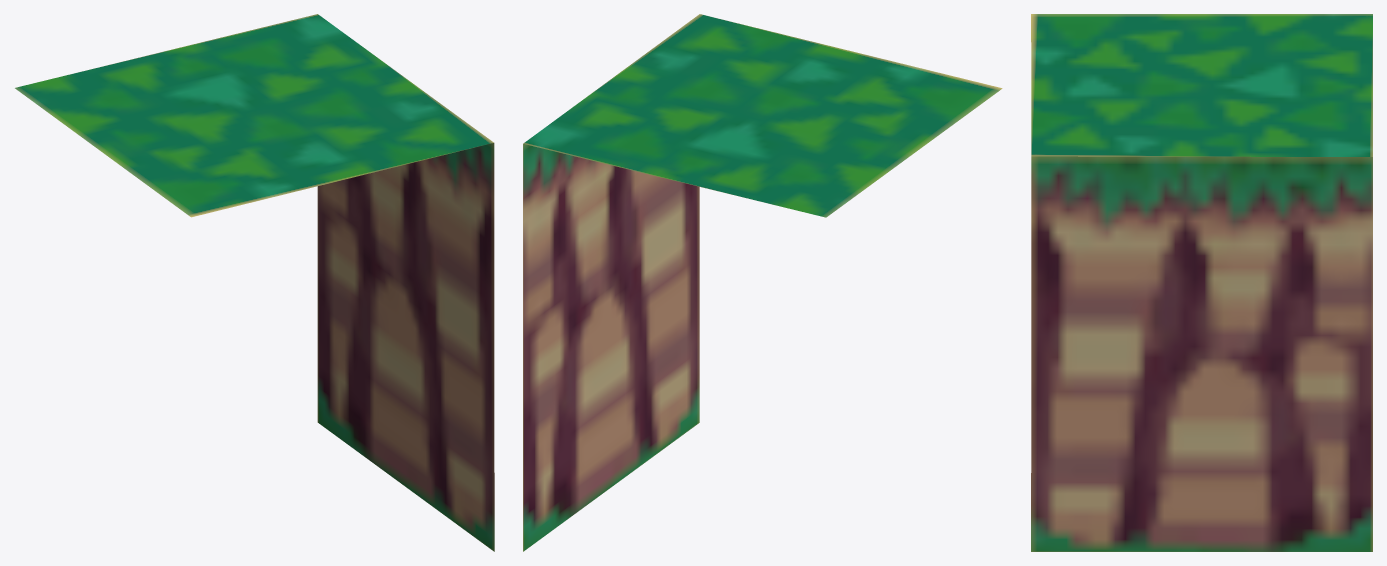
The model's file is RoundedGrassBorder_1Walls.fbx.
3 views of the same model, side by side, from view 1: azimuth 30°, elevation 25°; view 2: azimuth 150°, elevation 25°; view 3: azimuth 270°, elevation 25° (orthographic). The views are drawn at different scales.
Parts seen in each view (by area): view 1: Cube; view 2: Cube; view 3: Cube.
Boxes of the visible parts, x1,y1,x2,y2 form: Cube: [15, 14, 494, 551]; Cube: [523, 14, 1002, 551]; Cube: [1031, 14, 1372, 551].
Size of the model in its own units: 385 by 496 by 389.
1 material, 1 textured.
